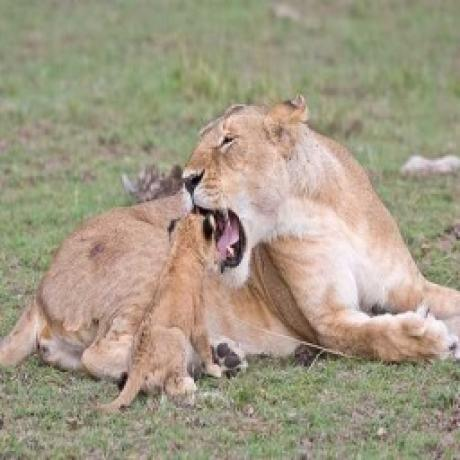Lion: (0, 94, 460, 388), (120, 212, 228, 399)
